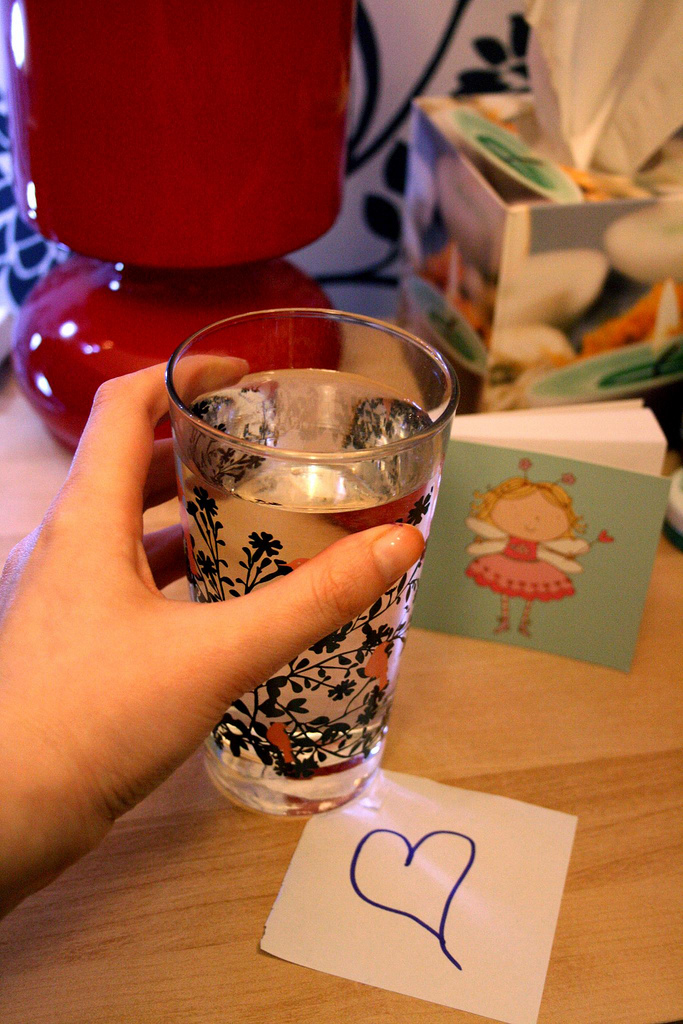glass of water: (187, 320, 375, 801)
